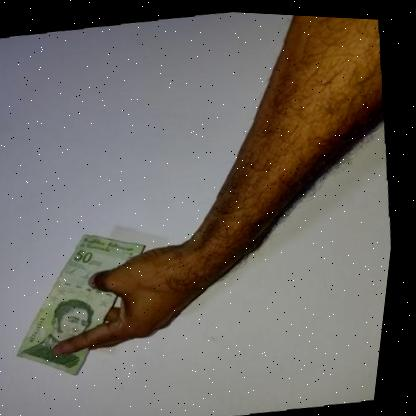fifty-front-vef: (4, 220, 169, 385)
